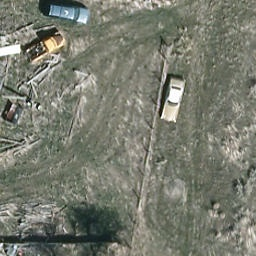car: (162, 79, 185, 123), (46, 4, 93, 25)
pickup: (22, 32, 69, 64)
